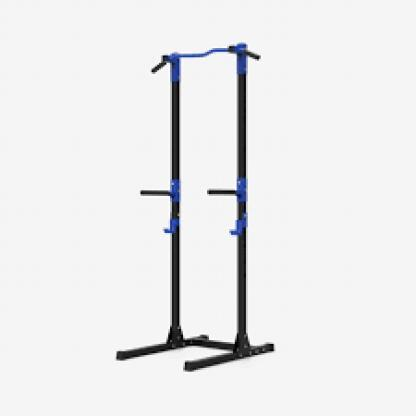chinning dipping: (118, 42, 275, 372)
